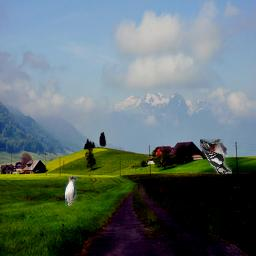Cuckoo: (65, 176, 78, 206)
Woodpecker: (200, 139, 232, 174)
